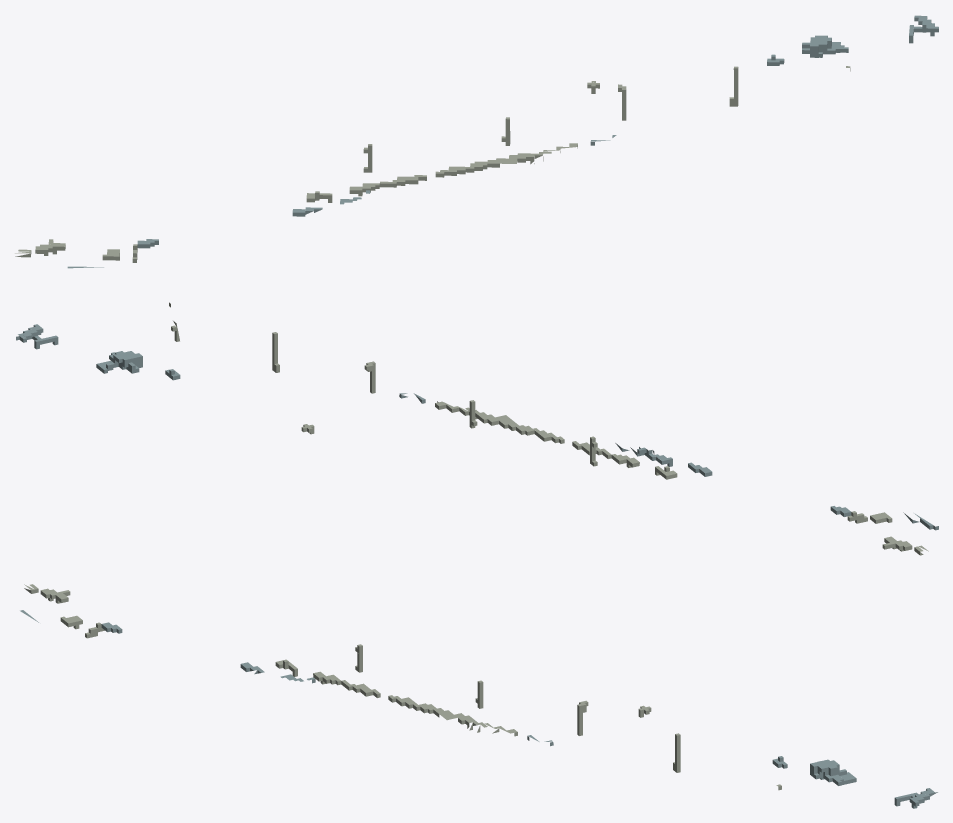
3 renders of one model, top to bottom at view 1: azimuth 30°, elevation 25°; view 2: azimuth 150°, elevation 25°; view 3: azimuth 330°, elevation 25°, orthographic. The views are drawn at different scales.
Visible parts, largest first — view 1: measured-industrial; view 2: measured-industrial; view 3: measured-industrial.
Boxes of the visible parts, left/top/right/bottom form: measured-industrial: left=15, top=15, right=938, bottom=268; measured-industrial: left=16, top=302, right=938, bottom=555; measured-industrial: left=20, top=584, right=937, bottom=808.
Size of the model in its own units: 253 by 12.16 by 32.52.
